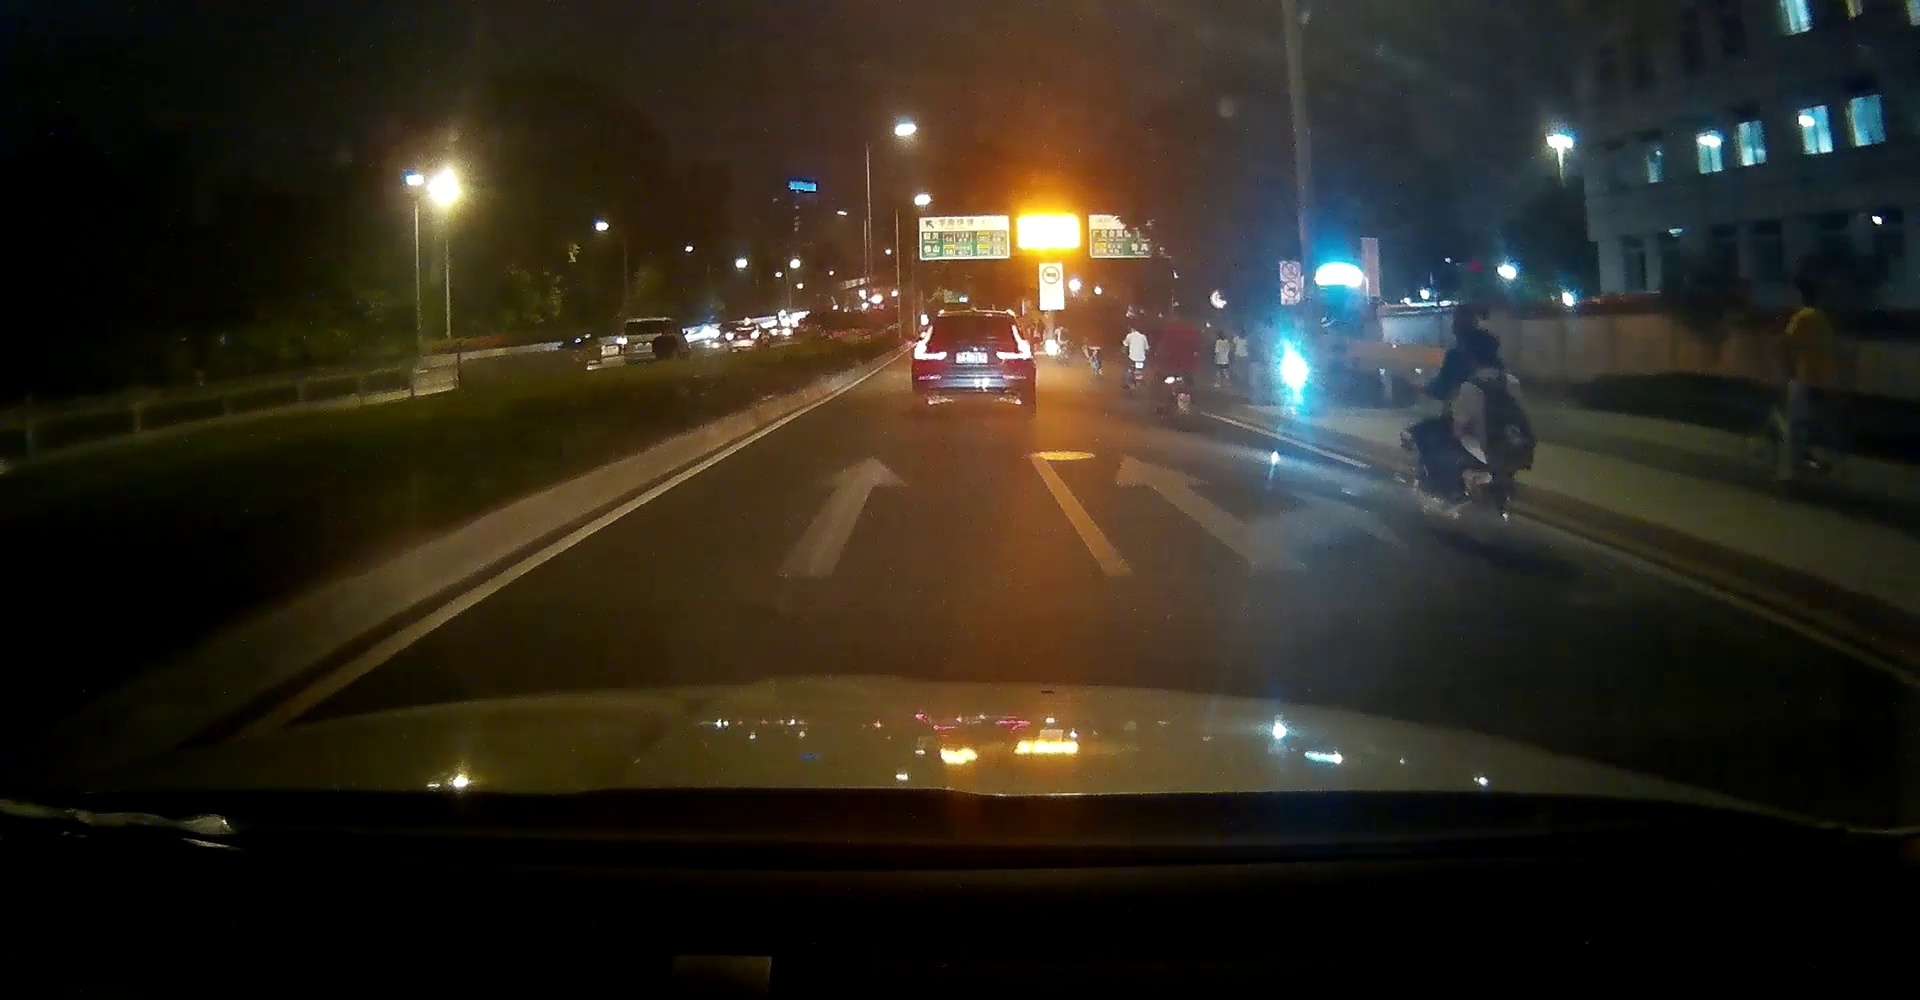L_light: (912, 325, 947, 360)
R_light: (996, 322, 1032, 360)
T_light: (963, 315, 987, 320)
night-no: (910, 308, 1036, 416)
